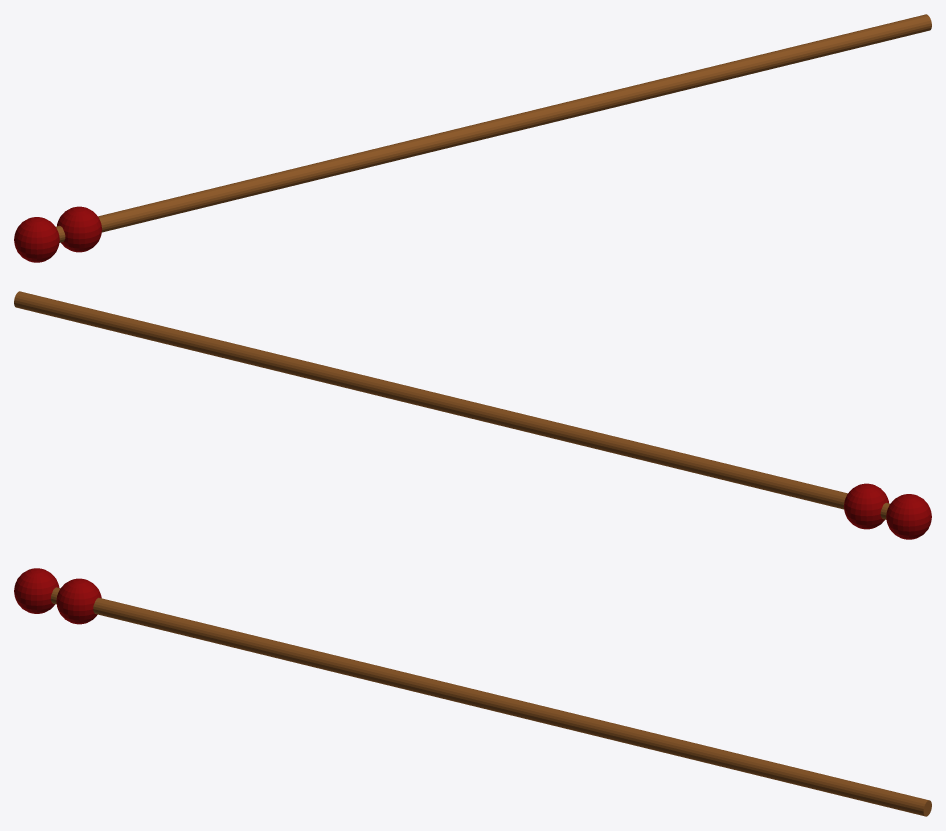
The model's file is Stick.glb.
3 views of the same model, one above another, from view 1: azimuth 30°, elevation 25°; view 2: azimuth 150°, elevation 25°; view 3: azimuth 330°, elevation 25° (orthographic).
Visible parts, largest first — view 1: Stick; view 2: Stick; view 3: Stick.
Boxes of the visible parts, x1,y1,x2,y2 form: Stick: [14, 14, 931, 262]; Stick: [14, 291, 931, 539]; Stick: [14, 568, 931, 816].
Bounding box in the file's own units: 6.88 × 0.3 × 0.3.
Materials: 2 (2 with a texture image).
